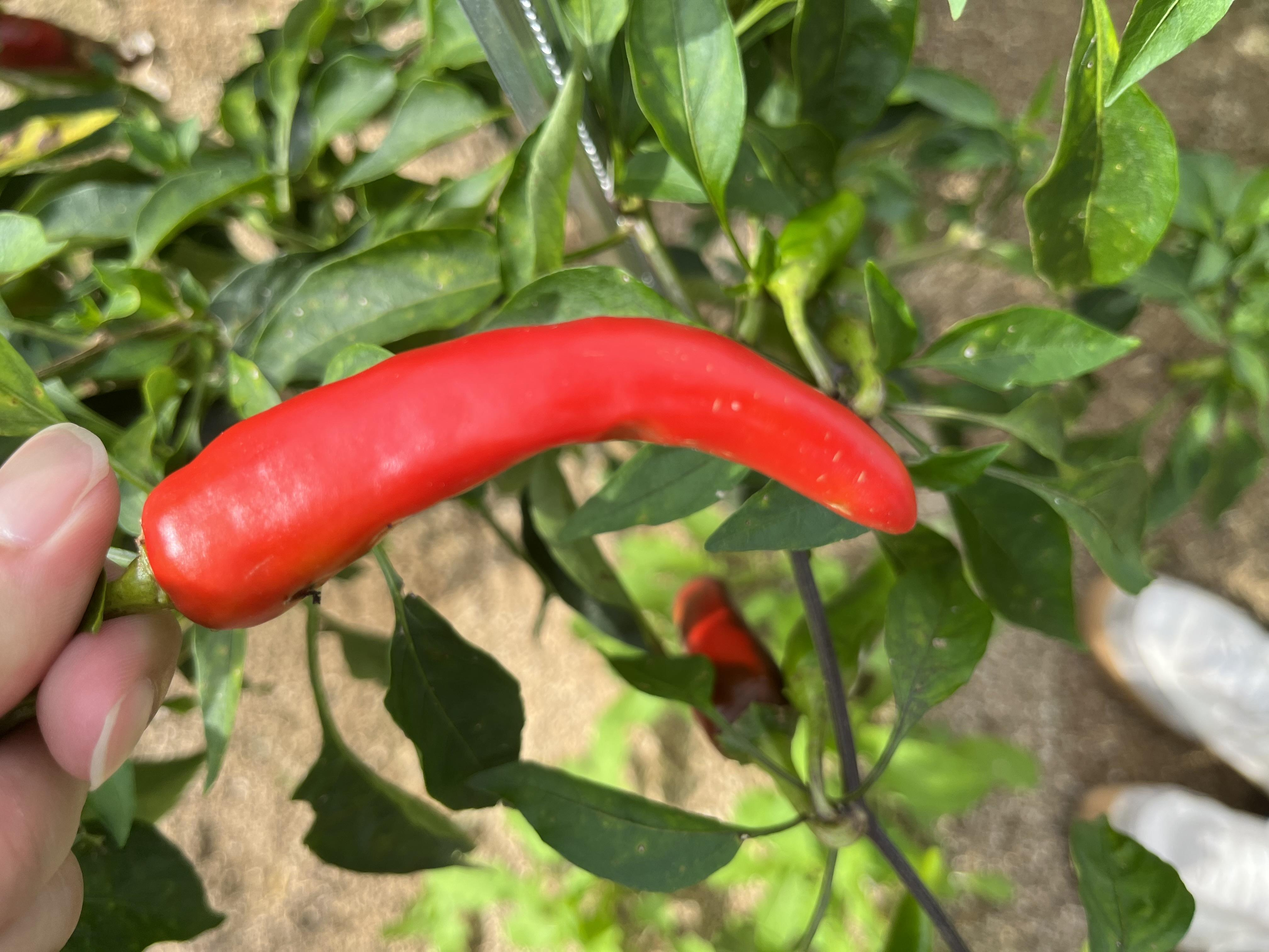Buah Cabai Sehat: (419, 96, 866, 692)
